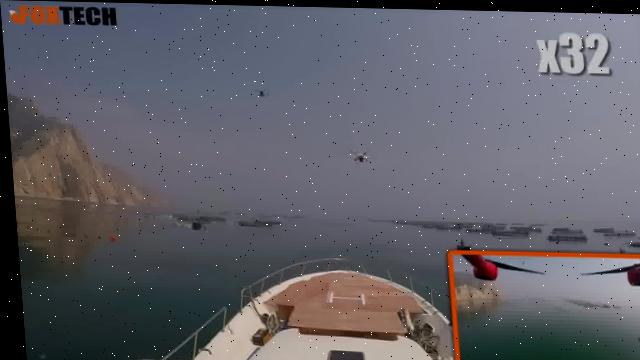drone: (337, 140, 376, 164)
